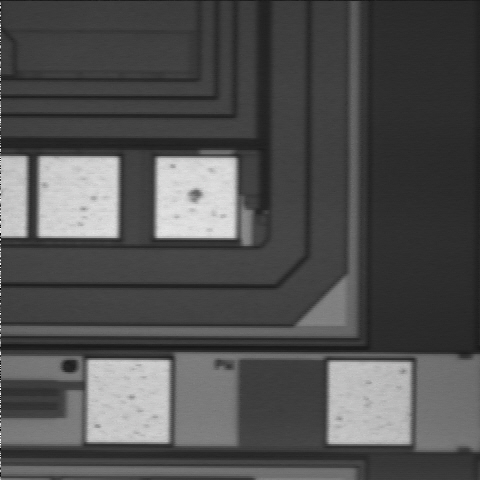pad: (88, 360, 169, 442), (329, 362, 410, 444), (156, 158, 236, 238), (39, 157, 118, 238)
